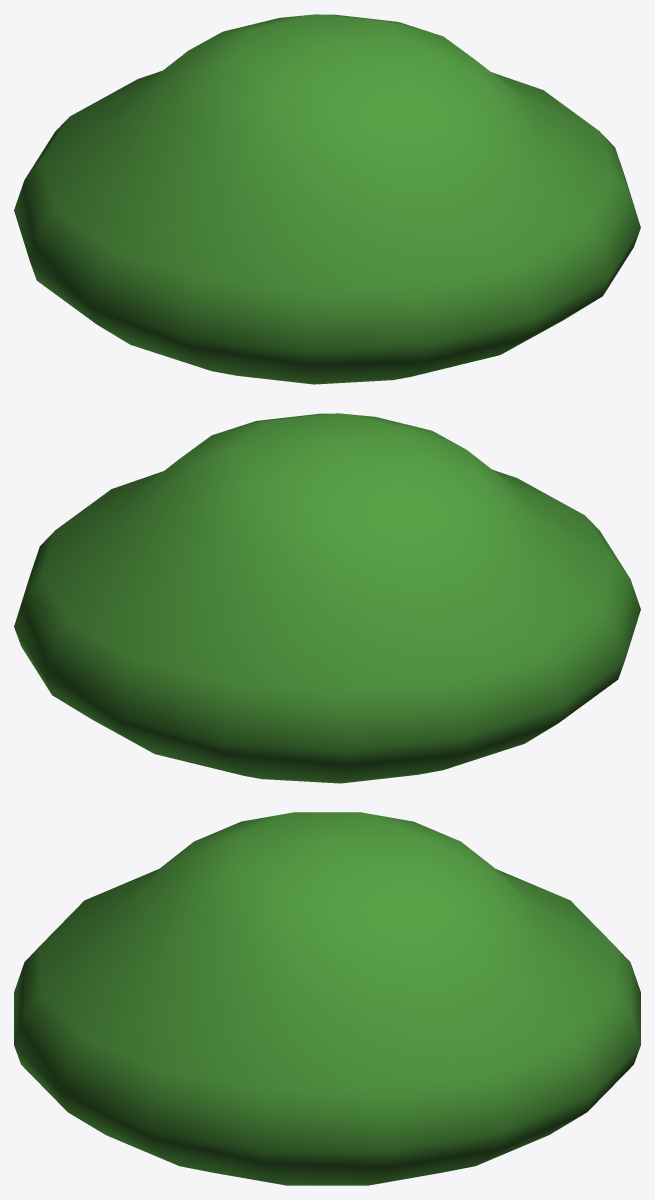
Rendered from plant_bush_3.glb.
The picture shows the model from 3 angles, top to bottom: view 1: azimuth 30°, elevation 25°; view 2: azimuth 150°, elevation 25°; view 3: azimuth 270°, elevation 25°; orthographic projection.
Visible parts, largest first — view 1: plant_bush_3; view 2: plant_bush_3; view 3: plant_bush_3.
Part boxes in pixels (x1,y1,x2,y2): plant_bush_3: (14,14,640,384); plant_bush_3: (14,413,640,783); plant_bush_3: (14,812,640,1185).
Bounding box in the file's own units: 2.4 × 1.11 × 2.4.
